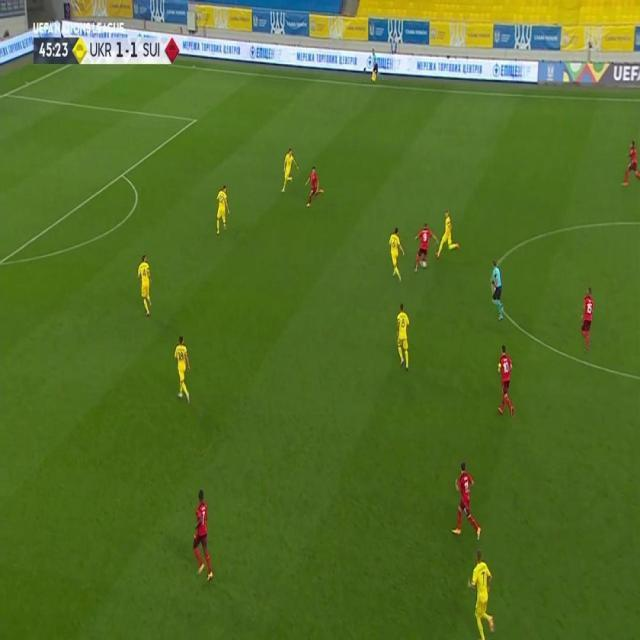ball: (423, 259, 427, 268)
player: (466, 547, 498, 640), (451, 460, 482, 540), (191, 488, 214, 582), (495, 343, 515, 419), (173, 334, 192, 403), (436, 209, 461, 260), (395, 301, 411, 372), (580, 284, 596, 354), (136, 253, 153, 318), (489, 258, 505, 323), (413, 221, 433, 271), (387, 227, 405, 282), (304, 164, 325, 209), (279, 147, 299, 193), (621, 140, 640, 188), (214, 183, 231, 236), (369, 47, 382, 84)
